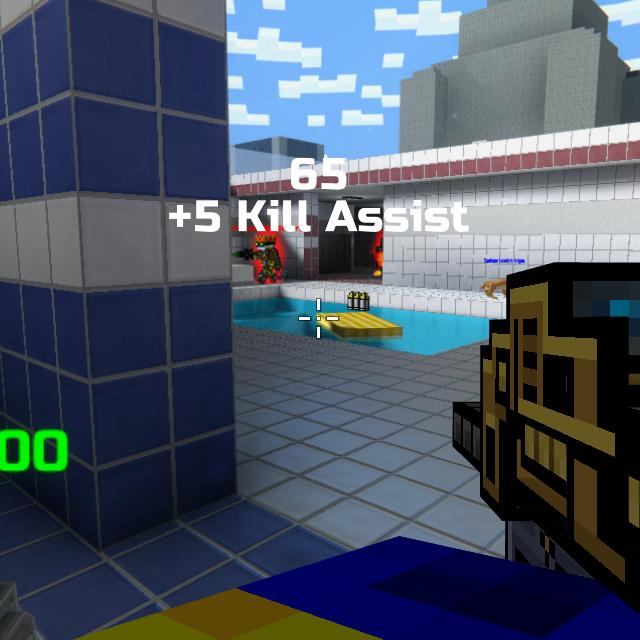Enemy: (249, 237, 280, 284), (376, 236, 384, 278)
